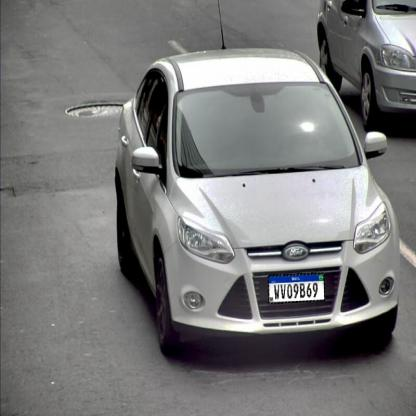PlacaM: (268, 272, 325, 304)
